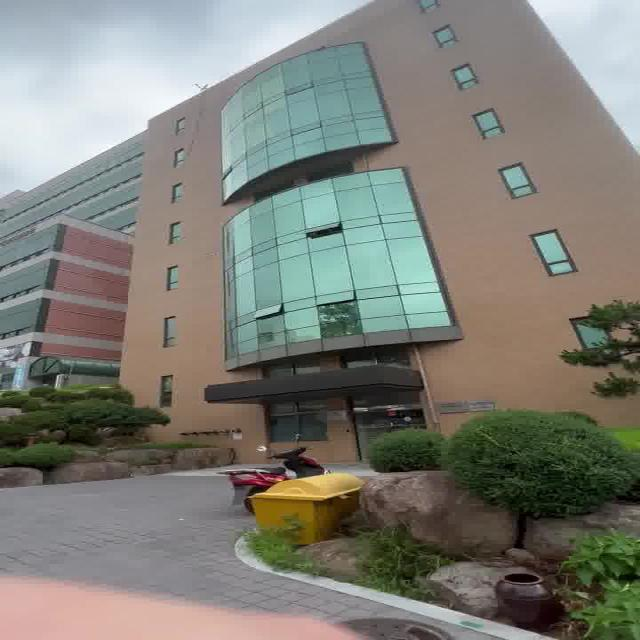building: (174, 21, 510, 398)
